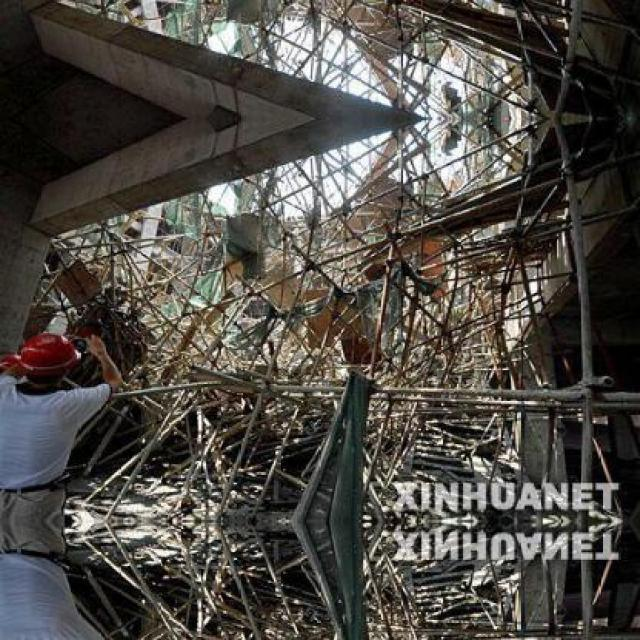helmet: (7, 332, 85, 388)
